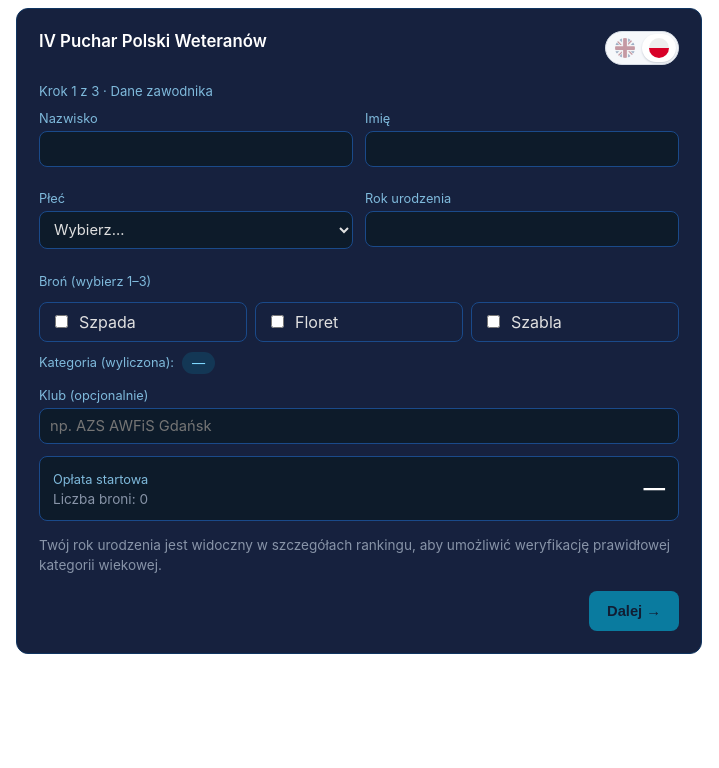
Test: RegistrationForm — routing after identity (P2.4, ADR-079 §2) › routes an unmatched fencer to RODO and warns that they are new
Expected: the text "IV Puchar Polski Weteranów" is shown, x1=39 y1=31 x2=267 y2=51
Type "kowalski" into the field named "surname" at {"x": 196, "y": 149}, box x1=39 y1=131 x2=353 y2=167
Type "Jan" into the field named "firstName" at {"x": 522, "y": 149}, box x1=365 y1=131 x2=679 y2=167
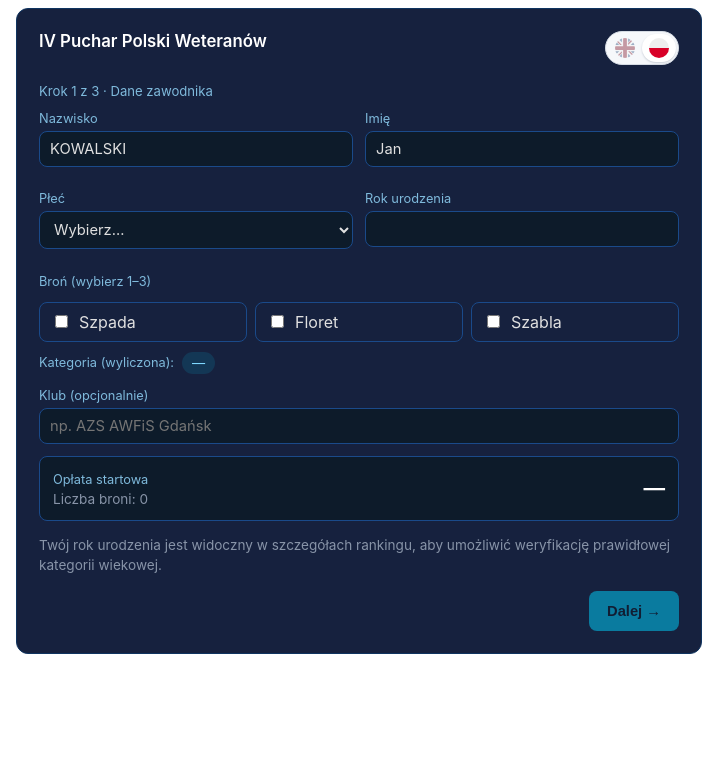
Type "1970" into the number field named "birthYear" at {"x": 522, "y": 229}, box x1=365 y1=211 x2=679 y2=247
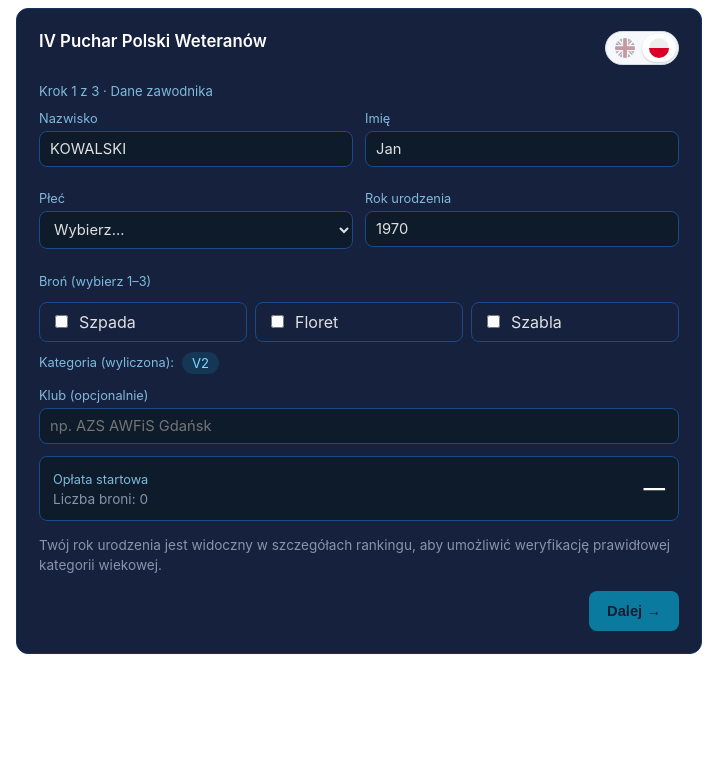
Select "Mężczyzna (M)" in the dropdown named "gender" at {"x": 196, "y": 230}, box x1=39 y1=211 x2=353 y2=249
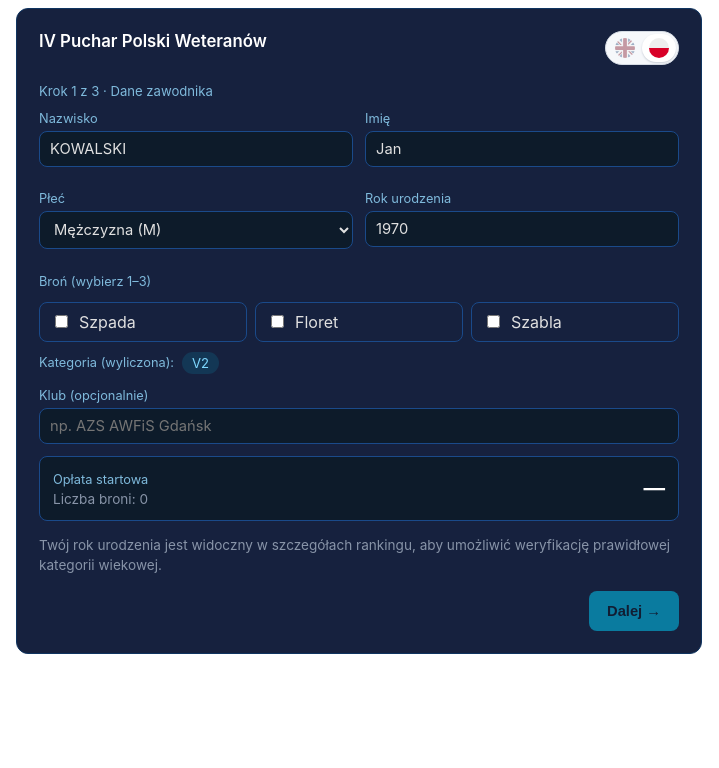
Click the checkbox labelled "Szpada" at {"x": 62, "y": 322}, box x1=55 y1=315 x2=68 y2=328
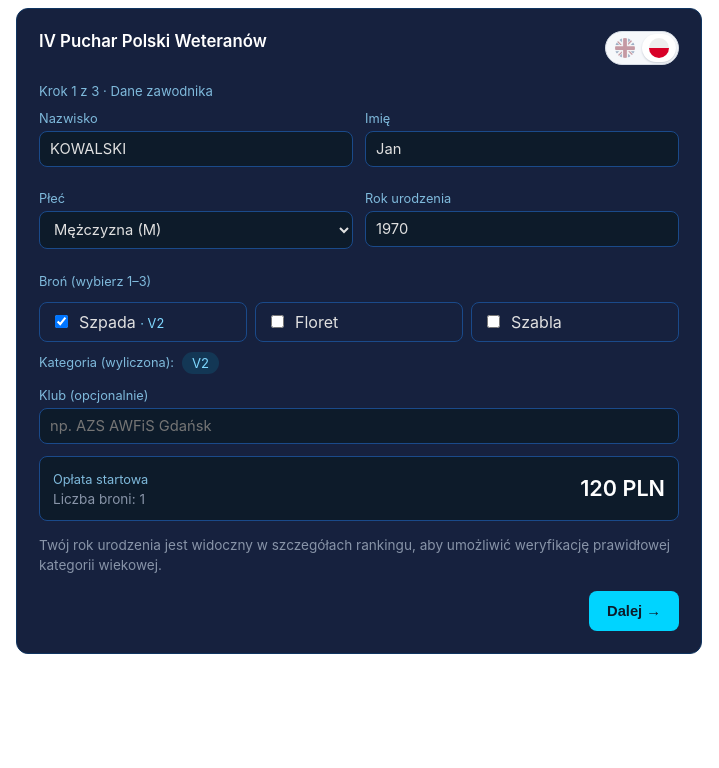
Click the button with class "reg-continue" at {"x": 634, "y": 611}, box x1=589 y1=591 x2=679 y2=631
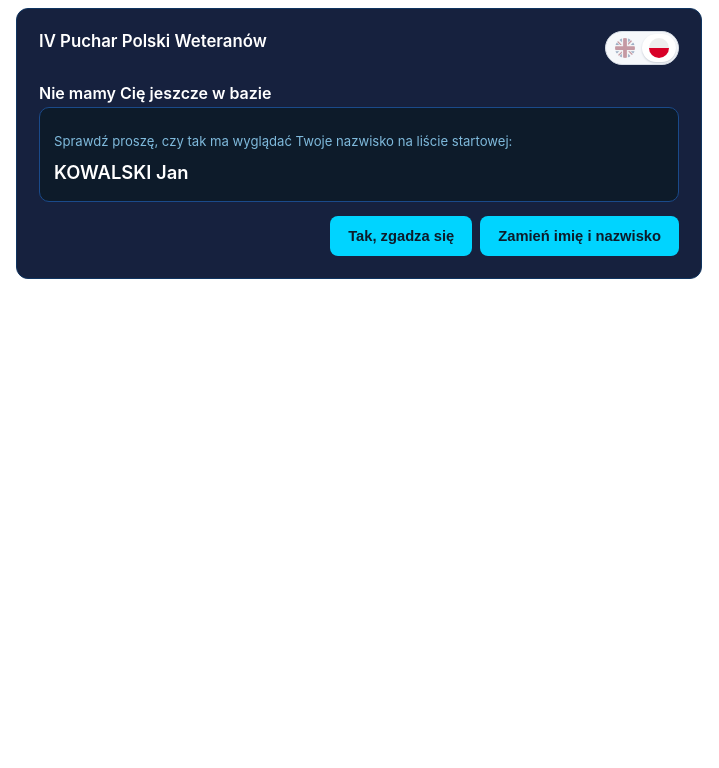
Click the button with class "reg-id-confirm" at {"x": 401, "y": 236}, box x1=330 y1=216 x2=472 y2=256
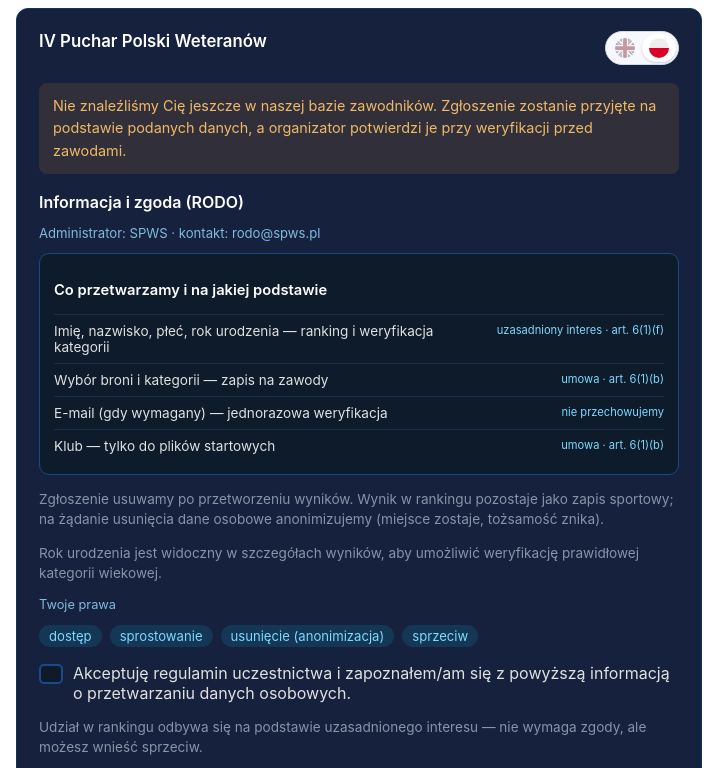
Expected: the text "Informacja i zgoda (RODO)" is shown, x1=39 y1=192 x2=244 y2=212
Expected: the text "Nie znaleźliśmy Cię" is shown, x1=53 y1=97 x2=656 y2=159
